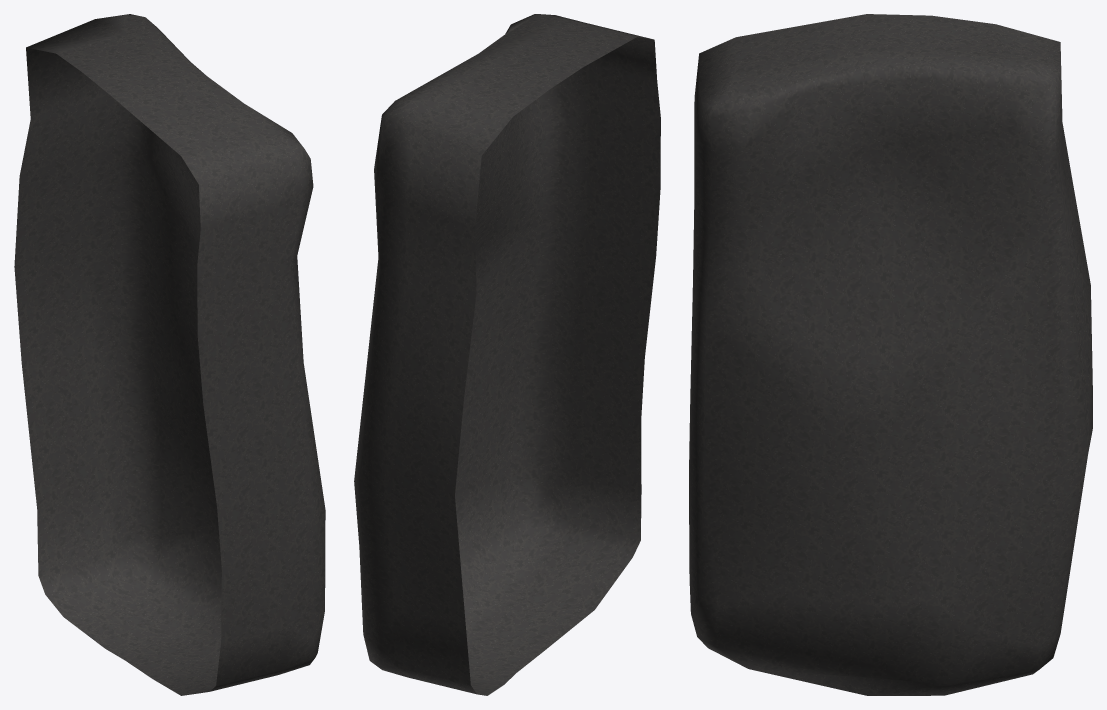
The model's file is PieceOfStone2.fbx.
3 renders of one model, left to right at view 1: azimuth 30°, elevation 25°; view 2: azimuth 150°, elevation 25°; view 3: azimuth 270°, elevation 25°, orthographic. The views are drawn at different scales.
Parts seen in each view (by area): view 1: PieceOfStone2; view 2: PieceOfStone2; view 3: PieceOfStone2.
Part boxes in pixels (x1=…): PieceOfStone2: x1=14, y1=14, x2=325, y2=695; PieceOfStone2: x1=354, y1=14, x2=660, y2=695; PieceOfStone2: x1=689, y1=14, x2=1092, y2=695.
Bounding box in the file's own units: 165 × 550 × 324.
Materials: 1 (1 with a texture image).
